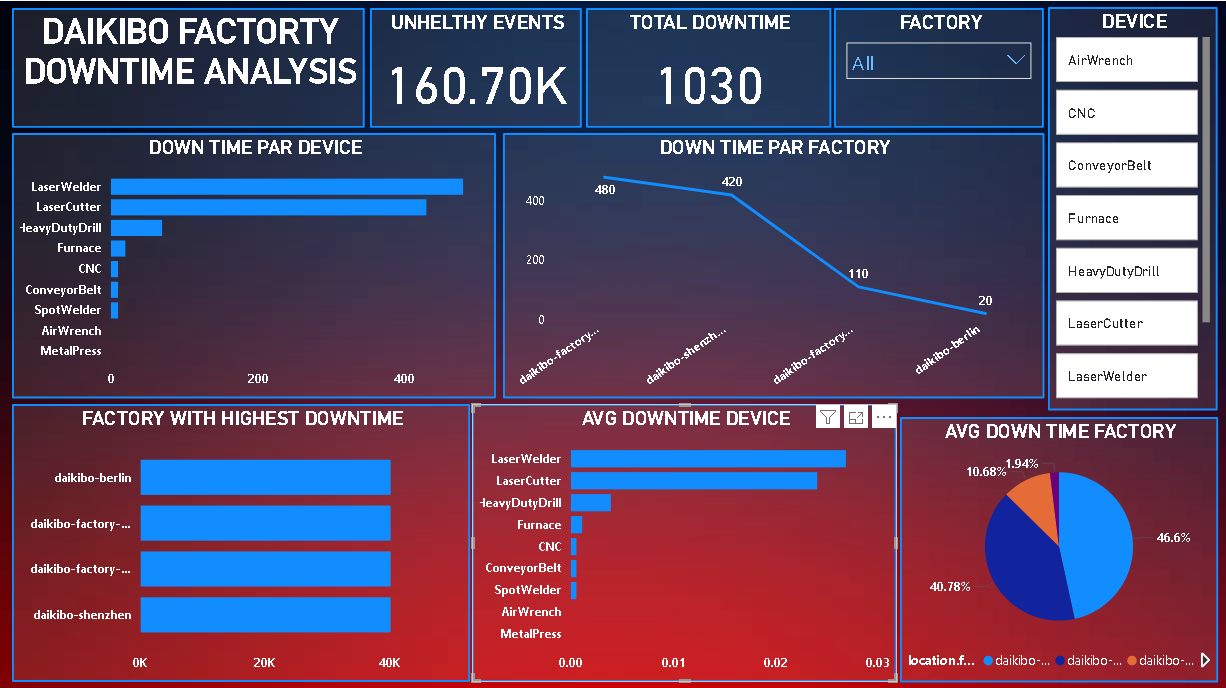

Layout of this report page (visuals, bound fields, positions):
{"tool":"powerbi","page":{"name":"Page 1","canvas":[1280,720],"ordinal":0},"visuals":[{"type":"card","title":"UNHELTHY EVENTS","fields":{"Values":["CountNonNull(daikibo-telemetry-data.deviceID)"]},"box":[387.1,7.3,221.2,125.2],"z":0},{"type":"barChart","title":"FACTORY WITH HIGHEST DOWNTIME","fields":{"Category":["daikibo-telemetry-data.location.factory"],"Y":["CountNonNull(daikibo-telemetry-data.timestamp)"]},"box":[13.6,420.5,477.9,290.1],"z":1000},{"type":"card","title":"TOTAL DOWNTIME","fields":{"Values":["Sum(daikibo-telemetry-data.TIME UN)"]},"box":[612.5,7.3,255.7,125.2],"z":2000},{"type":"lineChart","title":"DOWN TIME PAR FACTORY","fields":{"Category":["daikibo-telemetry-data.location.factory"],"Y":["Sum(daikibo-telemetry-data.TIME UN)"]},"box":[525.9,137.7,564.5,276.5],"z":3000},{"type":"pieChart","title":"AVG DOWN TIME FACTORY","fields":{"Category":["daikibo-telemetry-data.location.factory"],"Y":["Avg(daikibo-telemetry-data.TIME UN)"]},"box":[940.2,434.1,331.8,276.5],"z":4000},{"type":"barChart","title":"DOWN TIME PAR DEVICE ","fields":{"Y":["Sum(daikibo-telemetry-data.TIME UN)"],"Category":["daikibo-telemetry-data.deviceType"]},"box":[13.6,137.7,505,276.5],"z":5000},{"type":"clusteredBarChart","title":"AVG DOWNTIME DEVICE","fields":{"Category":["daikibo-telemetry-data.deviceType"],"Y":["Avg(daikibo-telemetry-data.TIME UN)"]},"box":[493.6,420.5,443.5,290.1],"z":6000},{"type":"textbox","title":"DAIKIBO FACTORTY DOWNTIME ANALYSIS ","box":[13.6,7.8,368.2,124.7],"z":6001},{"type":"advancedSlicerVisual","title":"DEVICE","fields":{"Values":["daikibo-telemetry-data.deviceType"]},"box":[1094.9,5.8,177.3,420.8],"z":6002},{"type":"slicer","title":"FACTORY","fields":{"Values":["daikibo-telemetry-data.location.factory"]},"box":[871.3,7.3,219.1,125.2],"z":6003}]}

Visuals, with their boxes in screenshot pixels (x1, y1, x2, y2), scaled from the page's 1280x720 canvas onto the 1226x688 screenshot:
"UNHELTHY EVENTS" card: [371, 7, 583, 127]
"FACTORY WITH HIGHEST DOWNTIME" barChart: [13, 402, 471, 679]
"TOTAL DOWNTIME" card: [587, 7, 832, 127]
"DOWN TIME PAR FACTORY" lineChart: [504, 132, 1044, 396]
"AVG DOWN TIME FACTORY" pieChart: [901, 415, 1218, 679]
"DOWN TIME PAR DEVICE " barChart: [13, 132, 497, 396]
"AVG DOWNTIME DEVICE" clusteredBarChart: [473, 402, 898, 679]
"DAIKIBO FACTORTY DOWNTIME ANALYSIS " textbox: [13, 7, 366, 127]
"DEVICE" advancedSlicerVisual: [1049, 6, 1219, 408]
"FACTORY" slicer: [835, 7, 1044, 127]
